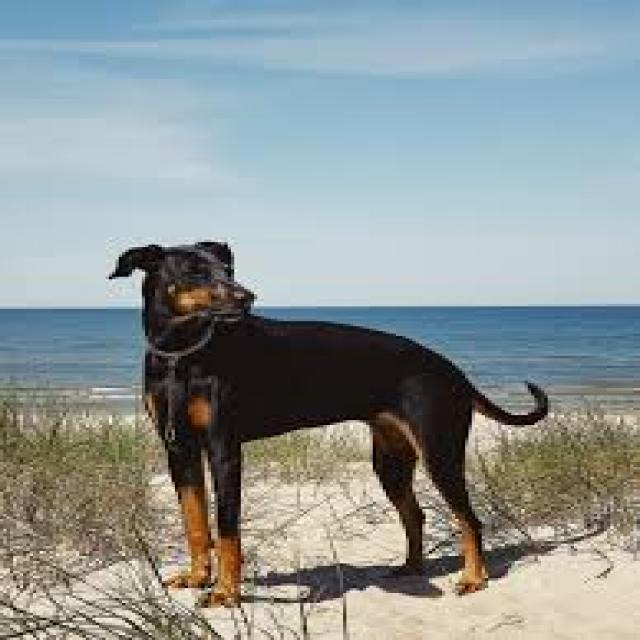Dog: (104, 237, 554, 612)
